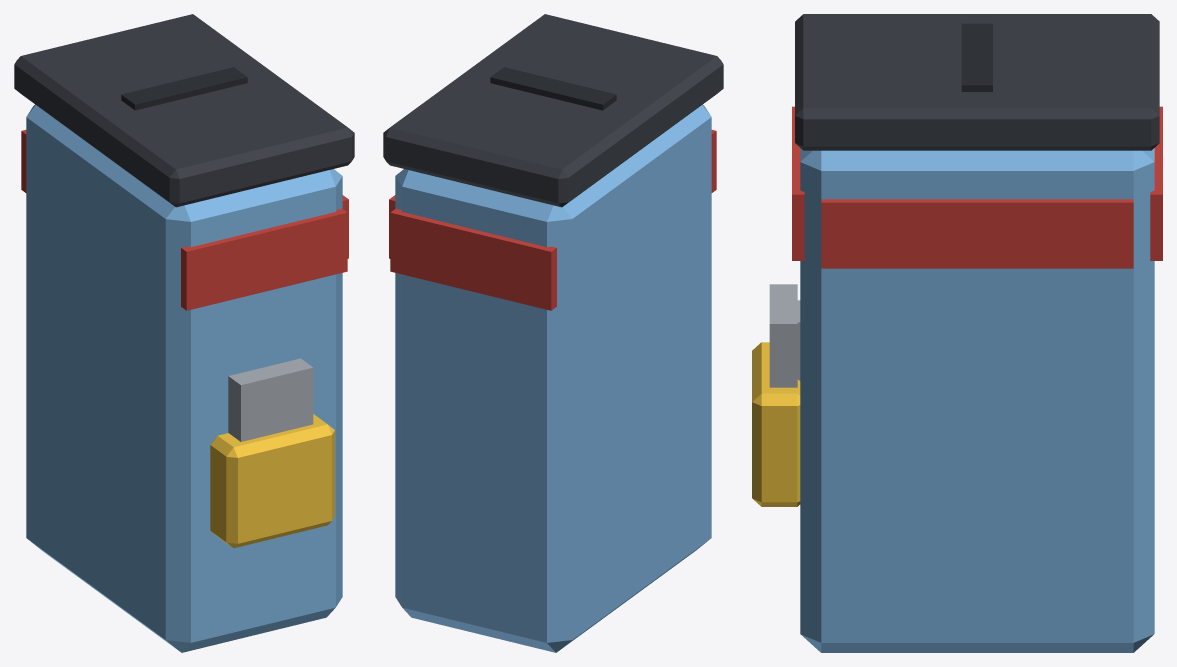
The model's file is shredder_m2_2.glb.
3 renders of one model, left to right at view 1: azimuth 30°, elevation 25°; view 2: azimuth 150°, elevation 25°; view 3: azimuth 270°, elevation 25°, orthographic. The views are drawn at different scales.
Parts seen in each view (by area): view 1: shredder_m2_2_mesh; view 2: shredder_m2_2_mesh; view 3: shredder_m2_2_mesh.
Part boxes in pixels (x1,y1,x2,y2): shredder_m2_2_mesh: (14, 14, 354, 652); shredder_m2_2_mesh: (383, 14, 723, 652); shredder_m2_2_mesh: (752, 14, 1162, 652).
Bounding box in the file's own units: 0.233 × 0.592 × 0.3943.
